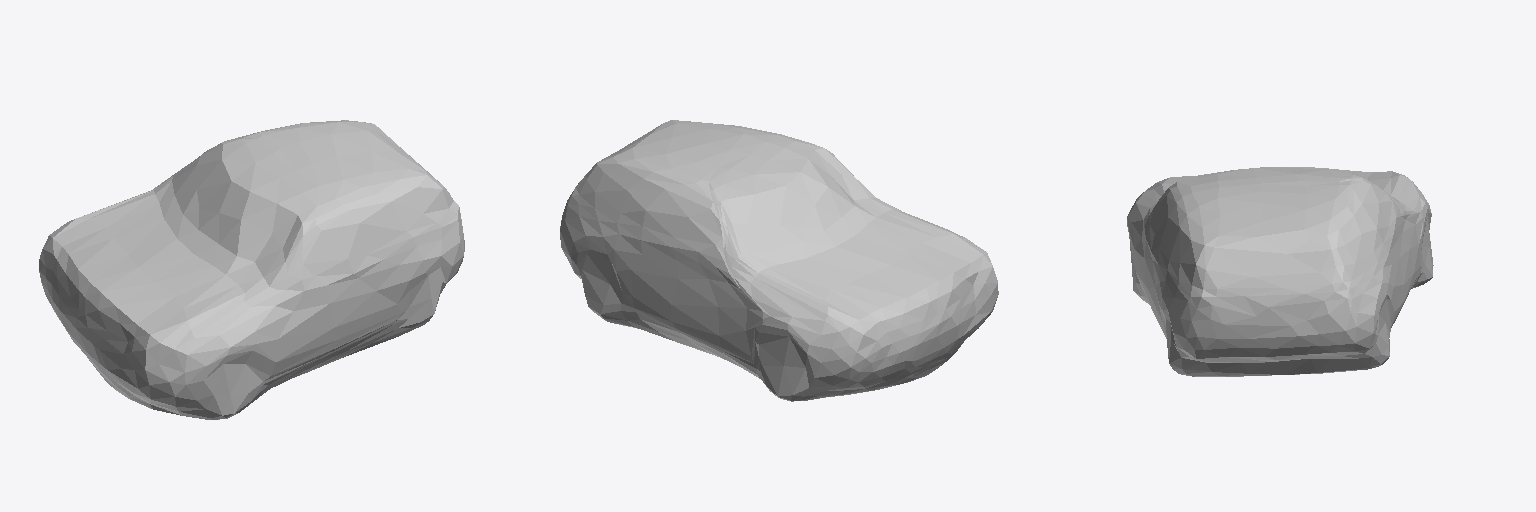
The model's file is video3_291.obj.
The picture shows the model from 3 angles: view 1: azimuth 30°, elevation 25°; view 2: azimuth 150°, elevation 25°; view 3: azimuth 270°, elevation 25°; orthographic projection.
Size of the model in its own units: 1 by 0.4933 by 0.7553.